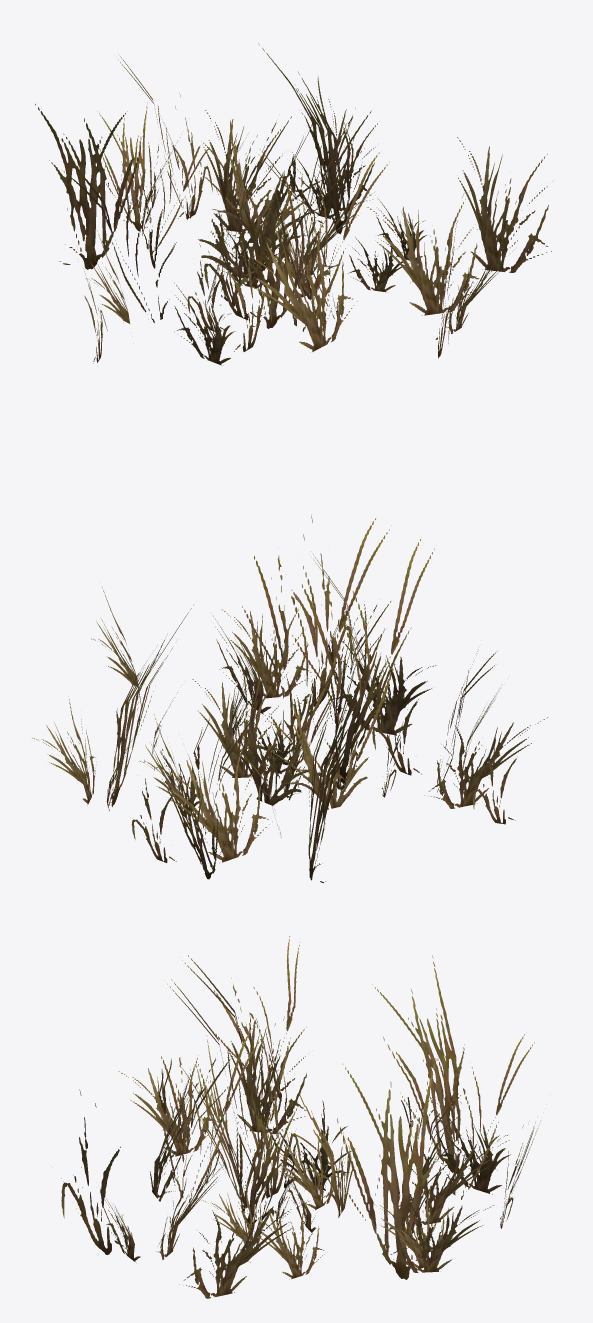
3 views of the same model, one above another, from view 1: azimuth 30°, elevation 25°; view 2: azimuth 150°, elevation 25°; view 3: azimuth 270°, elevation 25° (orthographic). The views are drawn at different scales.
Visible parts, largest first — view 1: grasspatch1; view 2: grasspatch1; view 3: grasspatch1.
Boxes of the visible parts, <box> form: grasspatch1: <box>35,43,552,365</box>; grasspatch1: <box>32,514,548,883</box>; grasspatch1: <box>61,936,537,1298</box>.
Bounding box in the file's own units: 1.12 × 0.6 × 1.14.
Materials: 1 (1 with a texture image).
